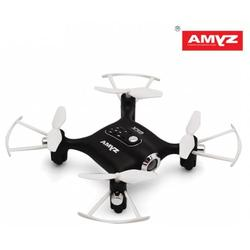drone: (5, 71, 242, 225)
